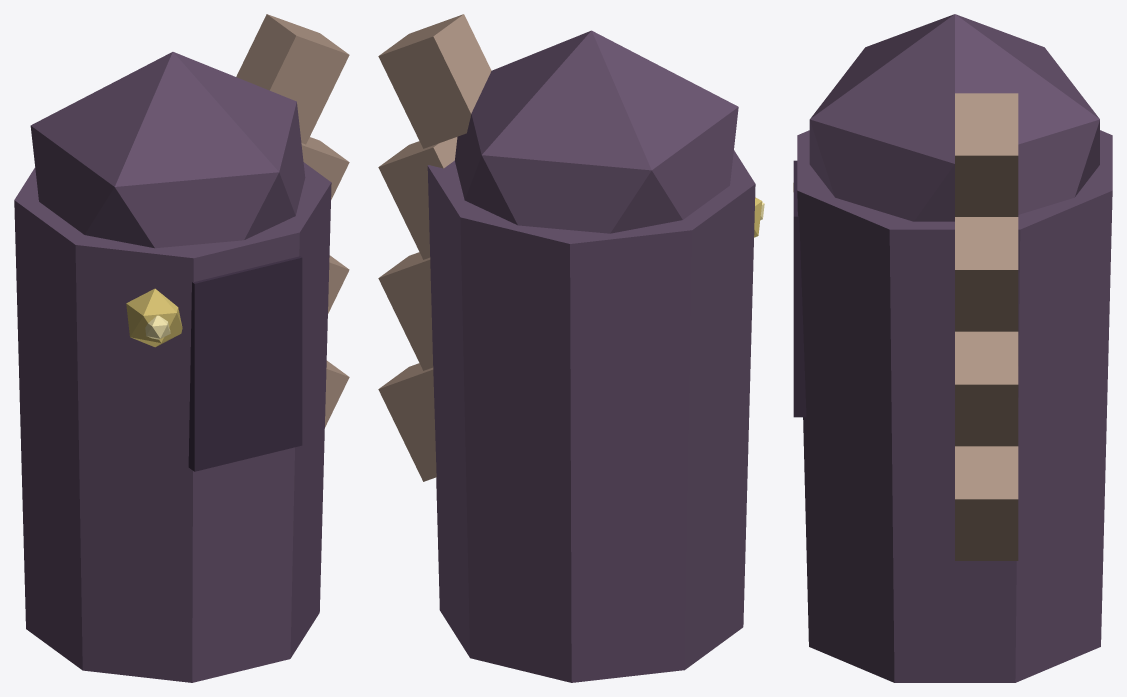
Rendered from inf_brute_lower_arm_r.fbx.
3 renders of one model, left to right at view 1: azimuth 30°, elevation 25°; view 2: azimuth 150°, elevation 25°; view 3: azimuth 270°, elevation 25°, orthographic. The views are drawn at different scales.
Parts seen in each view (by area): view 1: inf_brute_lower_arm_r; view 2: inf_brute_lower_arm_r; view 3: inf_brute_lower_arm_r.
Part boxes in pixels (bbox=[...]): inf_brute_lower_arm_r: bbox=[14, 14, 349, 682]; inf_brute_lower_arm_r: bbox=[378, 14, 764, 682]; inf_brute_lower_arm_r: bbox=[793, 14, 1112, 682].
Size of the model in its own units: 119 by 212 by 101.
